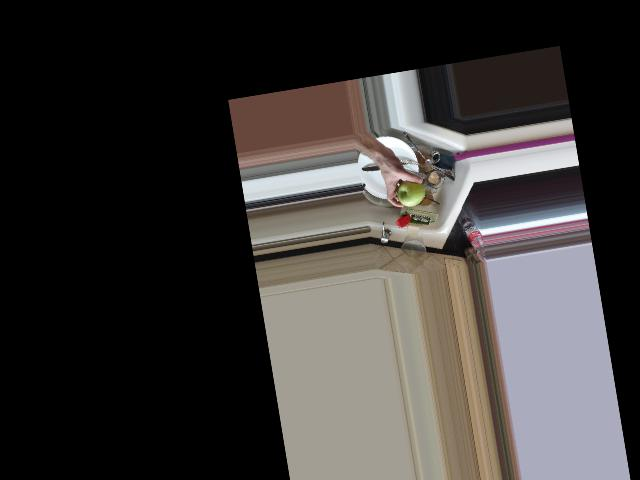apple: (392, 174, 427, 209)
